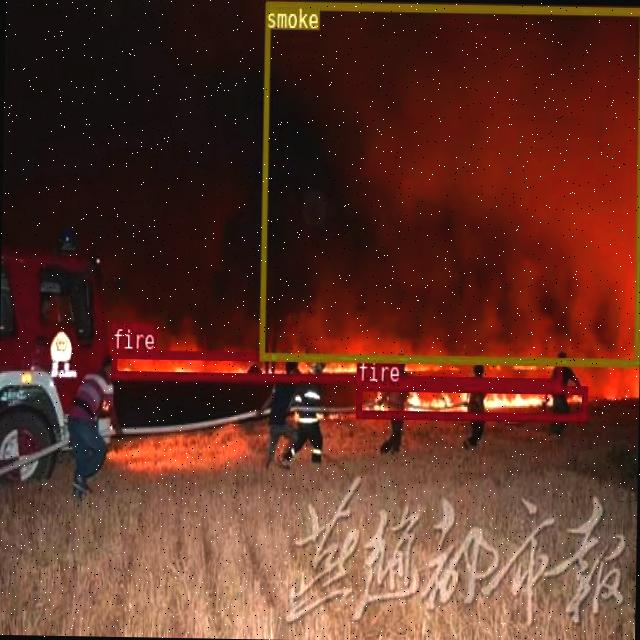fire: (111, 348, 561, 384), (356, 381, 586, 420)
smoke: (258, 0, 640, 365)
